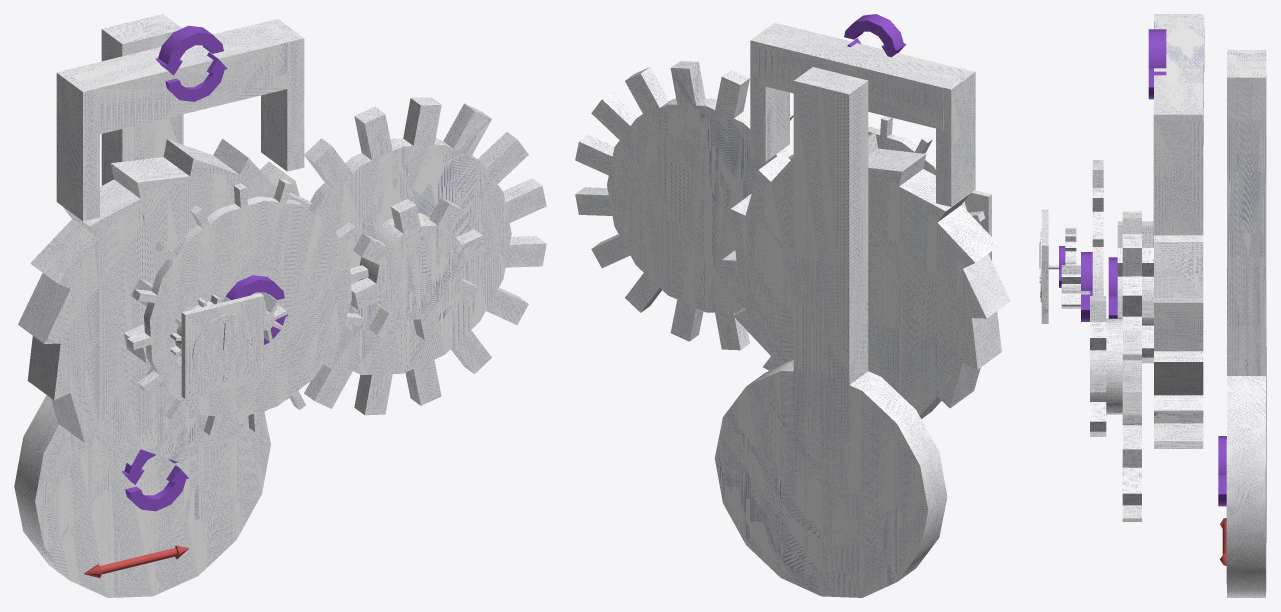
The picture shows the model from 3 angles, left to right: view 1: azimuth 30°, elevation 25°; view 2: azimuth 150°, elevation 25°; view 3: azimuth 270°, elevation 25°; orthographic projection. The views are drawn at different scales.
Parts seen in each view (by area): view 1: cylinder (×6), box (×21), convexhull (×8), group_2 (×4), group_6; view 2: cylinder (×4), box (×15), convexhull (×8), group_2; view 3: box (×20), cylinder (×5), convexhull (×7), group_2 (×4).
Part boxes in pixels (x1,y1,x2,y2): cylinder (×6): (14,138,511,597); box (×21): (56,14,546,480); convexhull (×8): (18,139,276,442); group_2 (×4): (125,25,284,511); group_6: (100,548,177,574); cylinder (×4): (607,98,971,597); box (×15): (575,23,991,490); convexhull (×8): (730,148,1010,408); group_2: (844,14,906,57); box (×20): (1041,18,1266,521); cylinder (×5): (1090,188,1266,597); convexhull (×7): (1154,235,1203,448); group_2 (×4): (1081,29,1226,474).
Bounding box in the file's own units: 61.6 × 26.77 × 71.98.
